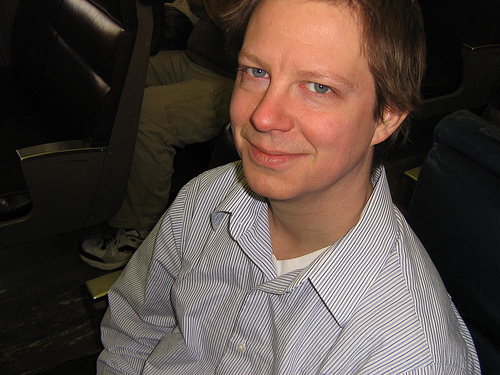without_mask: (231, 1, 406, 199)
